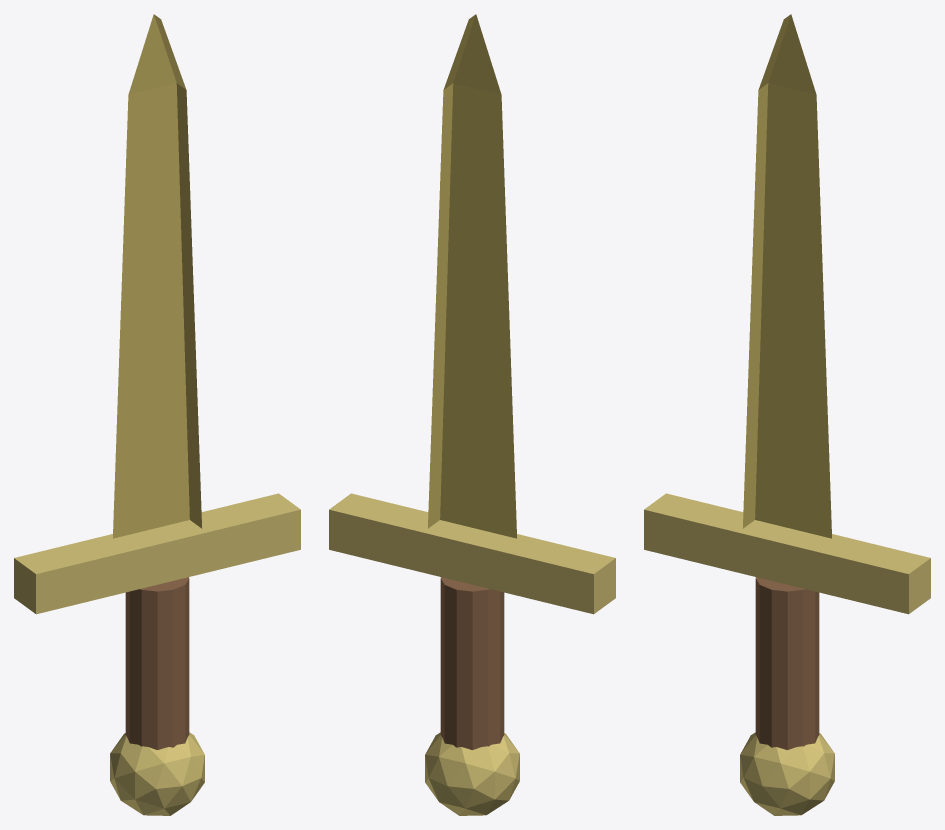
File: golden_sword.glb
3 renders of one model, left to right at view 1: azimuth 30°, elevation 25°; view 2: azimuth 150°, elevation 25°; view 3: azimuth 330°, elevation 25°, orthographic.
Parts seen in each view (by area): view 1: sword_0_0, sword_0_1, sword_0_2, sword_0_3; view 2: sword_0_0, sword_0_1, sword_0_2, sword_0_3; view 3: sword_0_0, sword_0_1, sword_0_2, sword_0_3.
Part boxes in pixels (x1=…): sword_0_0: x1=113, y1=14, x2=201, y2=538; sword_0_1: x1=14, y1=493, x2=300, y2=614; sword_0_2: x1=125, y1=577, x2=189, y2=749; sword_0_3: x1=110, y1=732, x2=204, y2=815; sword_0_0: x1=428, y1=14, x2=516, y2=538; sword_0_1: x1=329, y1=493, x2=615, y2=614; sword_0_2: x1=440, y1=577, x2=504, y2=749; sword_0_3: x1=425, y1=732, x2=519, y2=815; sword_0_0: x1=743, y1=14, x2=831, y2=538; sword_0_1: x1=644, y1=493, x2=930, y2=614; sword_0_2: x1=755, y1=577, x2=819, y2=749; sword_0_3: x1=740, y1=732, x2=834, y2=815.
Size of the model in its own units: 1.24 by 3.57 by 0.405.
